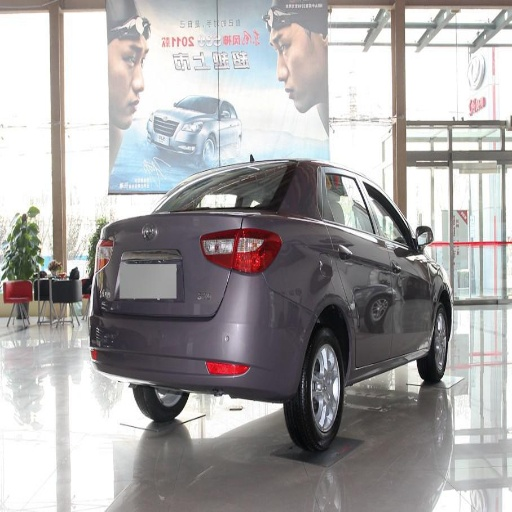back_bumper: (90, 271, 313, 400)
back_right_door: (317, 166, 391, 365)
tailgate: (96, 213, 238, 318)
trunk: (116, 213, 198, 255)
